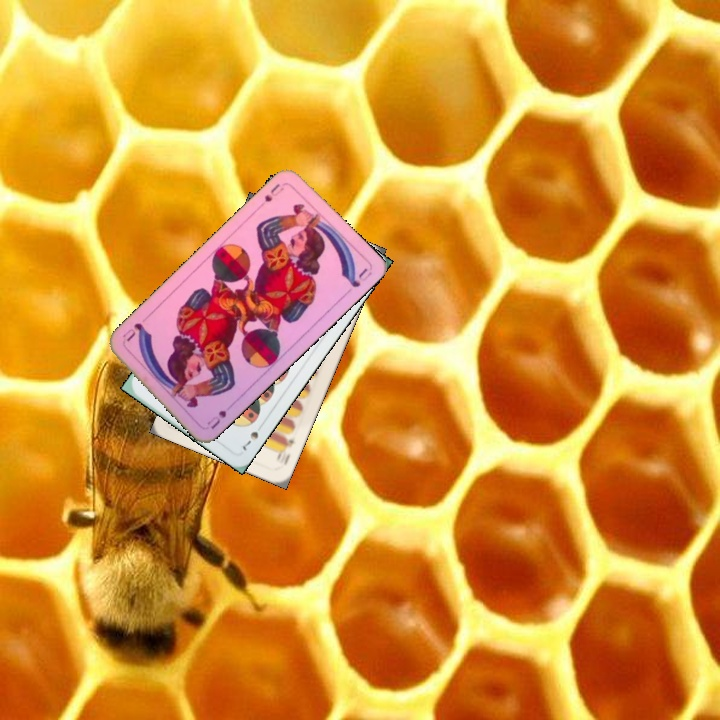E10: (272, 432, 296, 468)
S7: (238, 427, 261, 454)
SU: (203, 398, 237, 432), (260, 180, 286, 205)
